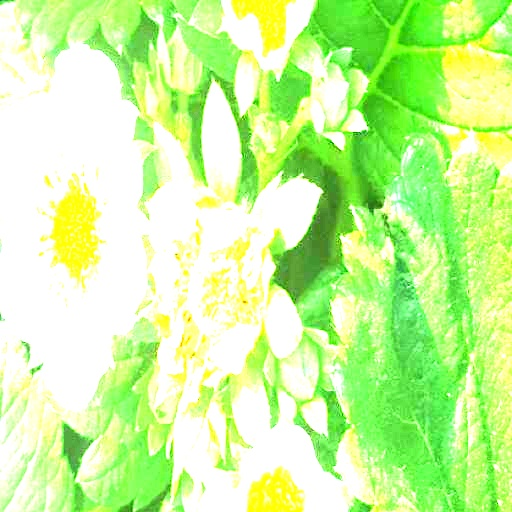Blossom Blight: (169, 214, 262, 369), (33, 150, 114, 315)
